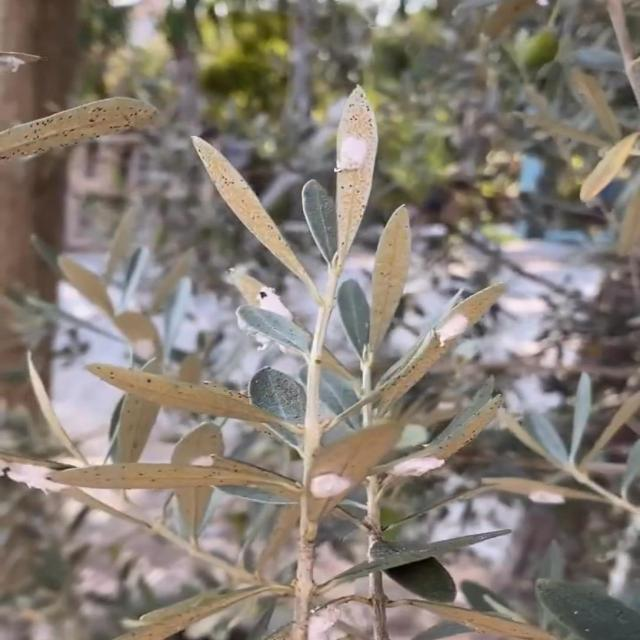Psyllid: (0, 453, 70, 495), (236, 275, 291, 322), (308, 472, 356, 518), (434, 305, 484, 347), (334, 132, 376, 182), (386, 456, 445, 486), (307, 604, 338, 640)
